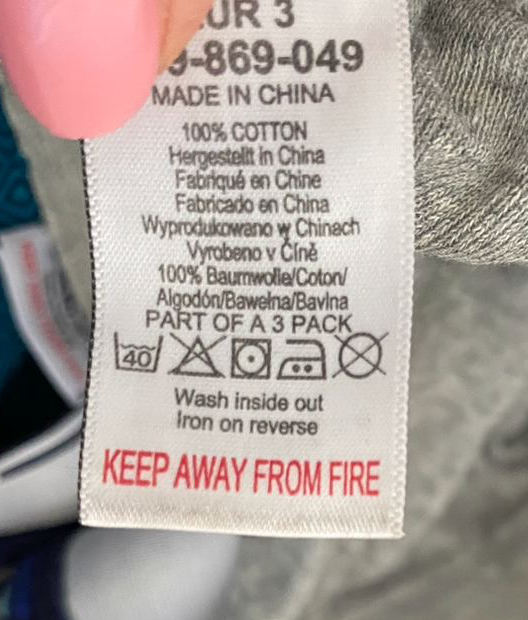do_not_bleach: (167, 334, 229, 379)
do_not_dry_clean: (330, 328, 395, 383)
ironing_at_med_temp: (274, 334, 330, 385)
tumble_drying_low_temps: (229, 335, 275, 381)
wash_at_or_below_40: (109, 329, 166, 376)
